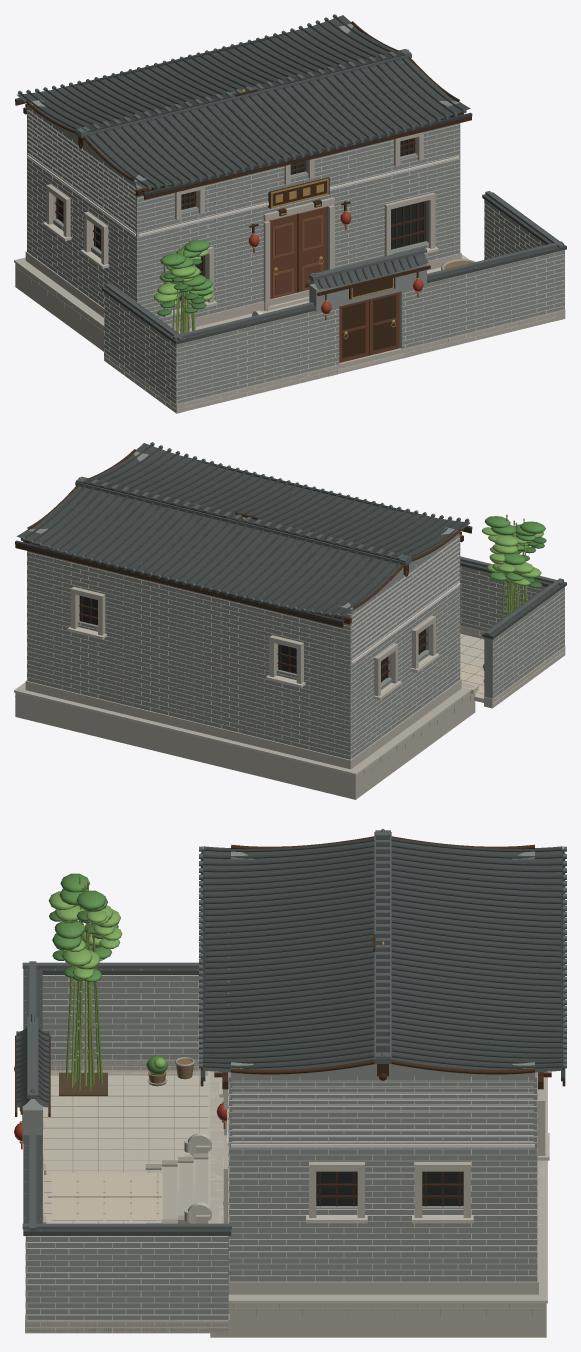
3 renders of one model, top to bottom at view 1: azimuth 30°, elevation 25°; view 2: azimuth 150°, elevation 25°; view 3: azimuth 270°, elevation 25°, orthographic. The views are drawn at different scales.
Bounding box in the file's own units: 0.6922 × 0.336 × 0.6029.
